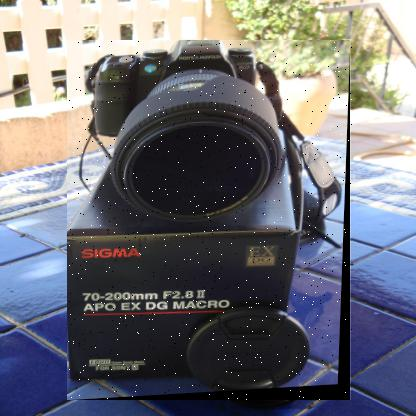Camera: (69, 41, 355, 402)
